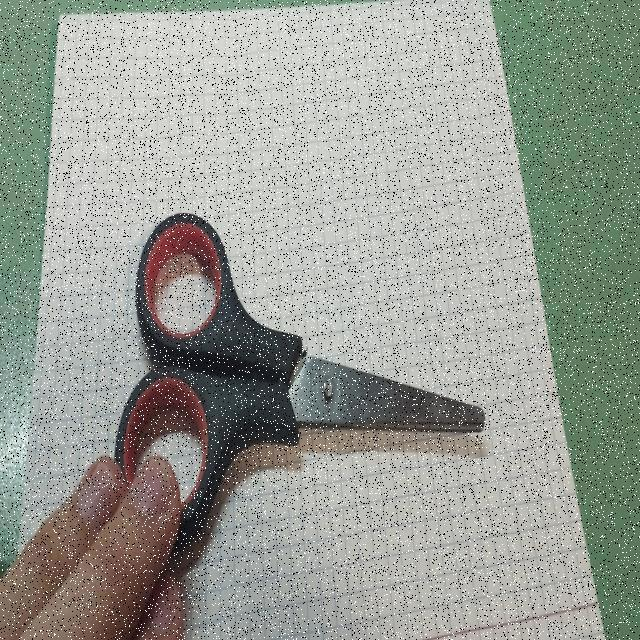scissors: (104, 201, 490, 568)
